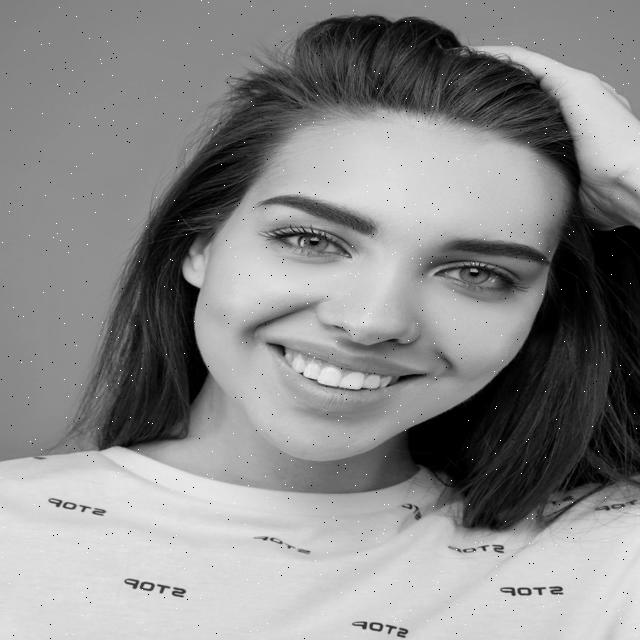Happiness: (190, 113, 566, 467)
